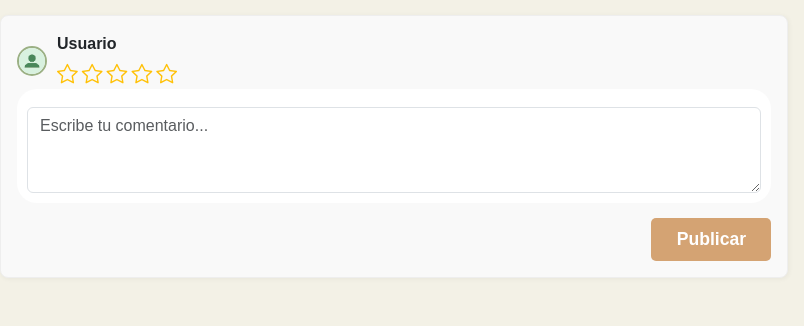
Test: RecetaComentario › publica el comentario correctamente
Note: Escribe comentario
In the text box with placeholder "Escribe tu comentario...": (394, 150) [27,107,762,193], type "¡Excelente receta!"
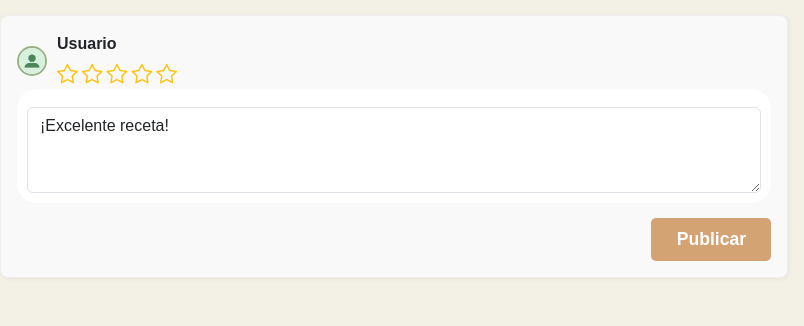
Note: Selecciona 4 estrellas
Click the icon with test id "star-4": (142, 74) [131,62,152,85]
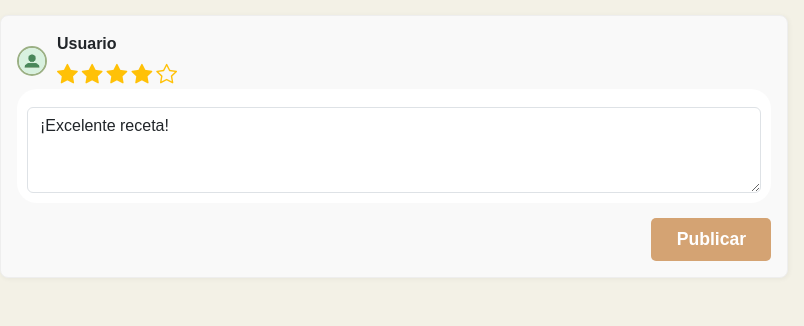
Click the button "Publicar": (712, 239) [652,218,772,261]
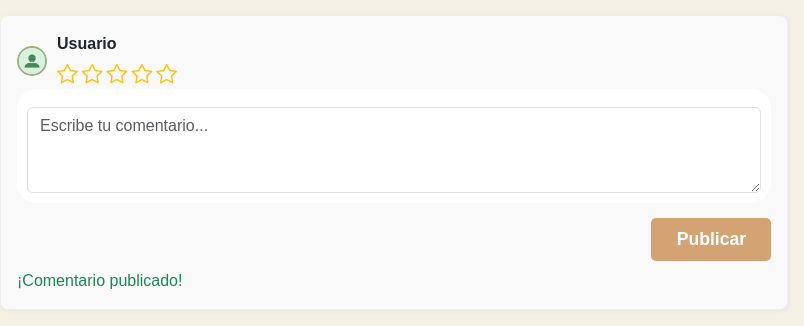
Check: the text "¡Comentario publicado!" is shown, box [17,272,182,289]
